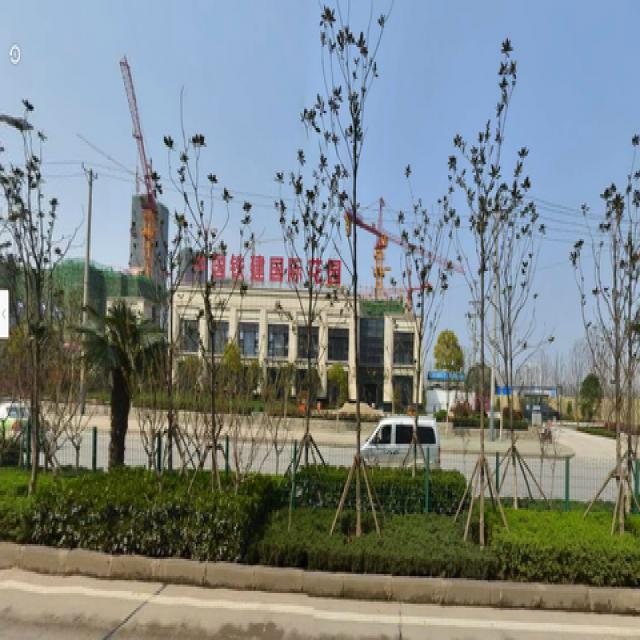magn: (6, 115, 78, 521), (324, 32, 380, 525), (584, 167, 637, 520), (454, 115, 502, 484), (269, 156, 320, 493), (399, 181, 444, 497), (183, 149, 225, 482)
